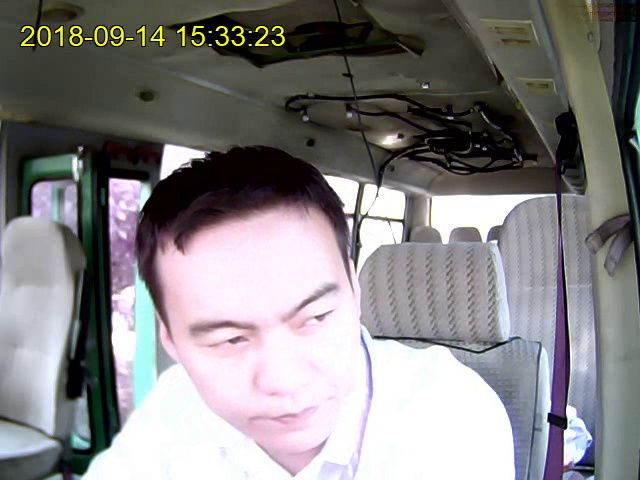closed_mouth: (262, 398, 328, 431)
open_eye: (200, 333, 252, 351), (296, 311, 335, 328)
